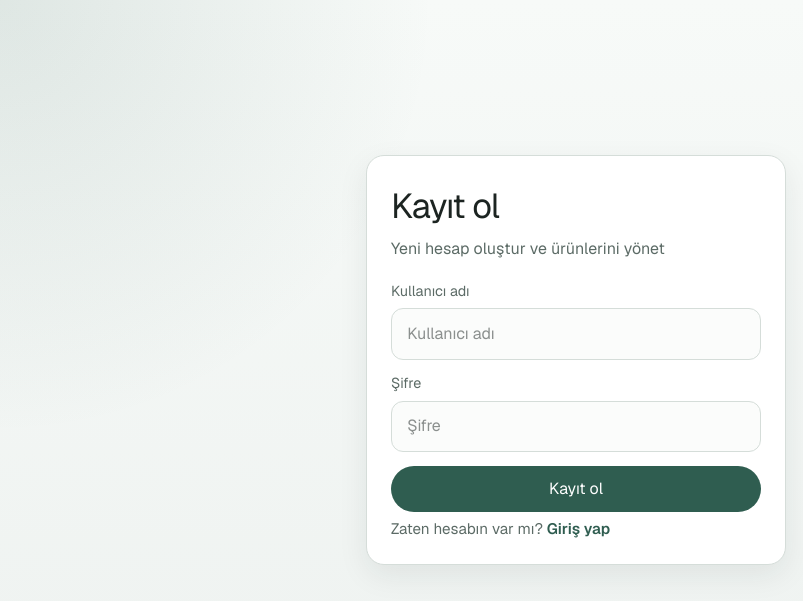
it: RegisterPage › should show error when username already exists
This screenshot has width=803, height=601.
In the field labelled "Kullanıcı adı": [576, 334] box [391,308,761,360], type "fatih"
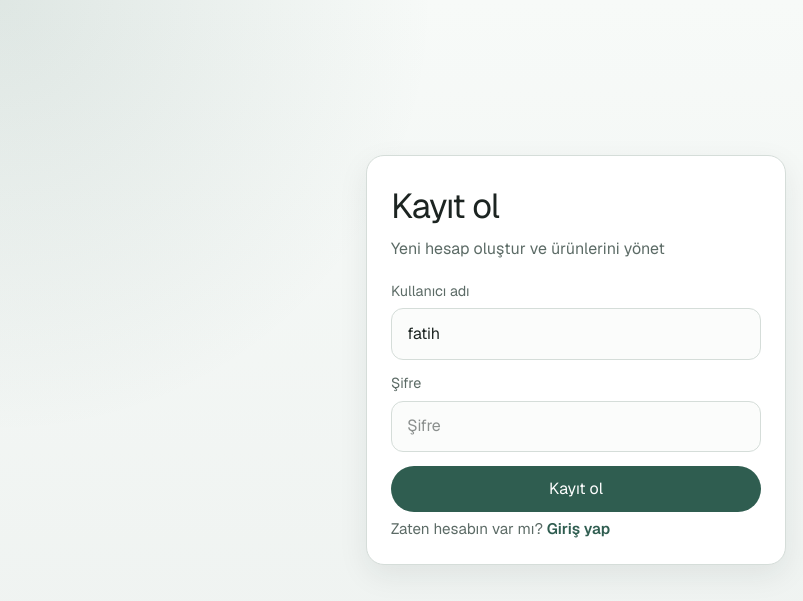
In the password field labelled "Şifre": [576, 426] box [391,400,761,452], type "123456"
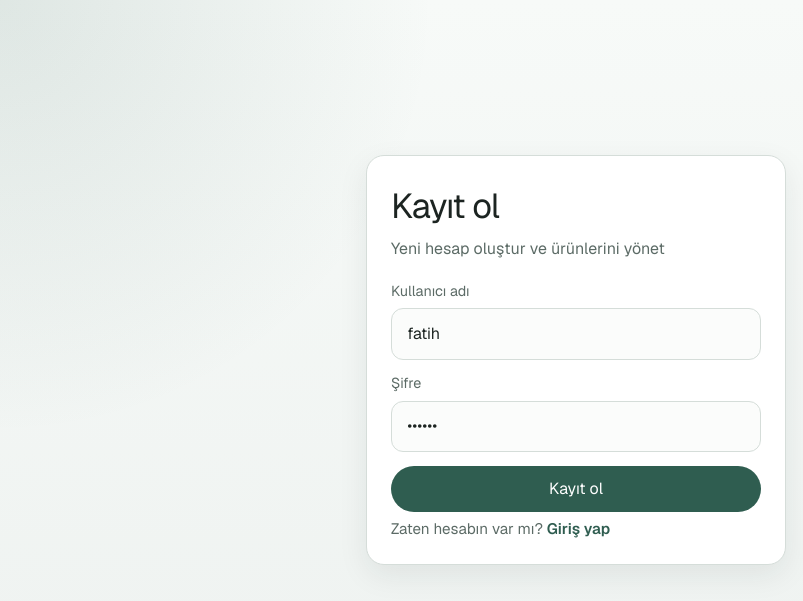
Click the button "Kayıt ol": [576, 489] box [391,466,761,512]
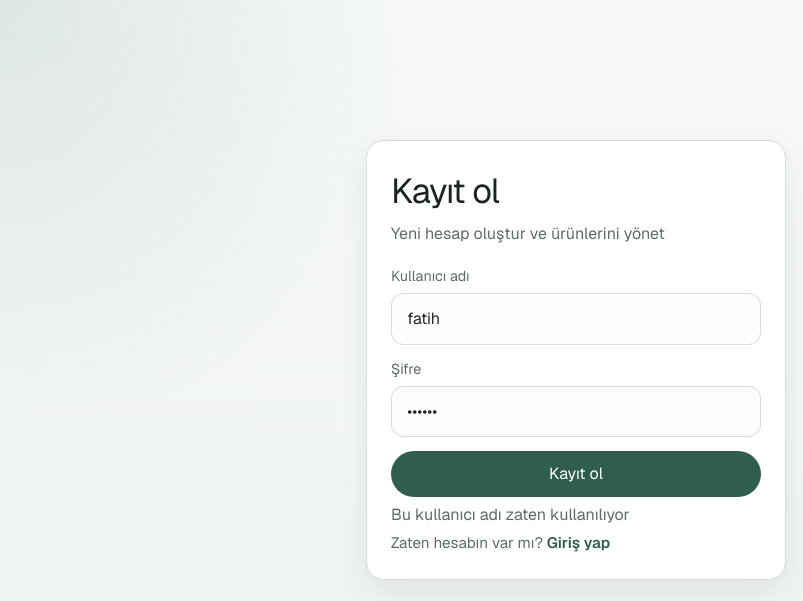
Now the text "Bu kullanıcı adı zaten kullanılıyor" is shown, box [391,504,630,525]
